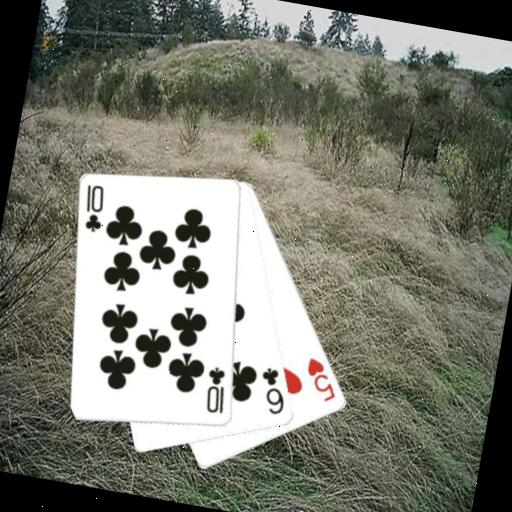10C: (77, 180, 110, 235), (199, 363, 232, 417)
5H: (298, 353, 343, 405)
6C: (252, 363, 292, 418)
